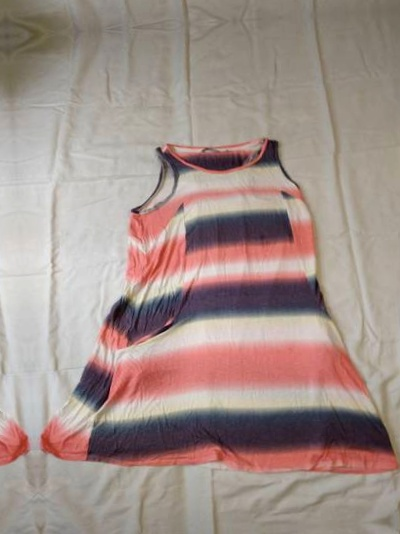Dress: (30, 83, 400, 518), (0, 110, 21, 534)
